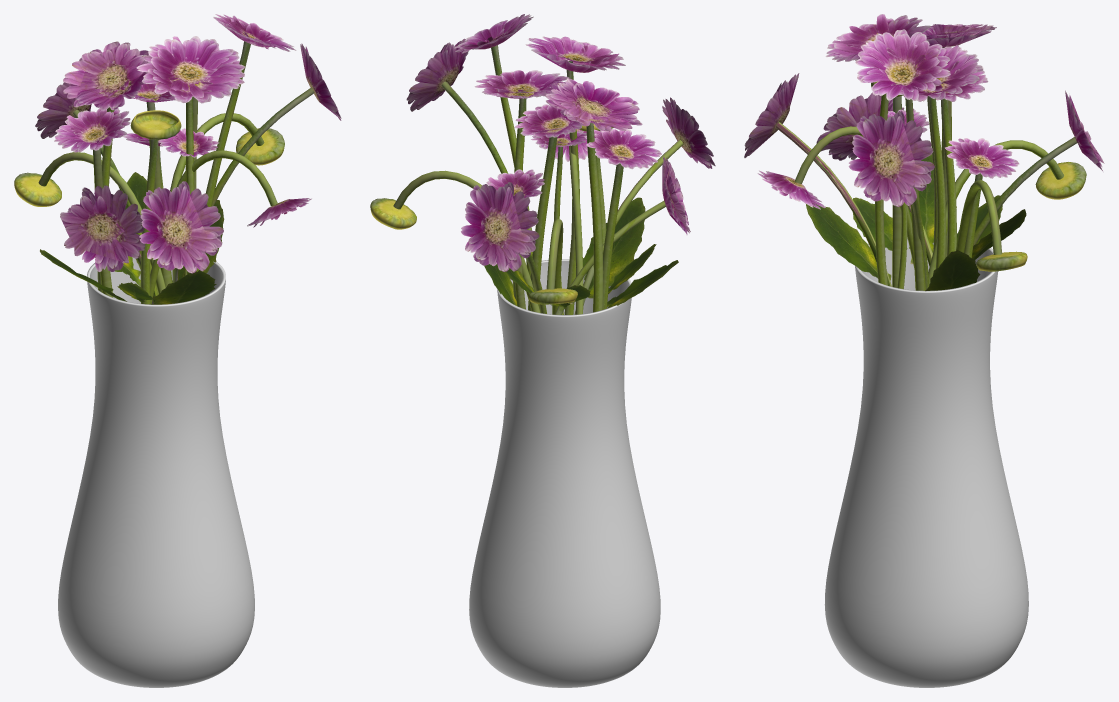
Rendered from flower1.fbx.
The picture shows the model from 3 angles, left to right: view 1: azimuth 30°, elevation 25°; view 2: azimuth 150°, elevation 25°; view 3: azimuth 270°, elevation 25°; orthographic projection. The views are drawn at different scales.
Parts seen in each view (by area): view 1: Cylinder.002, Plane.005, Plane.020, Plane.019, Plane.032, Plane.008, Plane.031, Plane.007, Plane.006, Plane.025, Plane.027, Plane.029 (+17 smaller); view 2: Cylinder.002, Plane.027, Plane.028, Plane.016, Plane.007, Plane.029, BezierCurve.003, Plane.019, Plane.005, Plane.025, Plane.008, BezierCurve.014 (+24 smaller); view 3: Cylinder.002, Plane.001, Plane.016, Plane.017, Plane.029, Plane.031, Plane.004, Plane.019, Plane.002, BezierCurve.005, Plane.018, Cylinder.004 (+23 smaller).
Part boxes in pixels (x1=…): Cylinder.002: x1=58, y1=257, x2=254, y2=687; Plane.005: x1=136, y1=36, x2=244, y2=103; Plane.020: x1=149, y1=186, x2=215, y2=272; Plane.019: x1=139, y1=181, x2=223, y2=273; Plane.032: x1=60, y1=196, x2=128, y2=263; Plane.008: x1=76, y1=43, x2=144, y2=100; Plane.031: x1=67, y1=185, x2=145, y2=271; Plane.007: x1=63, y1=41, x2=150, y2=110; Plane.006: x1=151, y1=46, x2=239, y2=97; Plane.025: x1=54, y1=107, x2=130, y2=152; Plane.027: x1=35, y1=70, x2=93, y2=138; Plane.029: x1=149, y1=270, x2=216, y2=304; Cylinder.002: x1=469, y1=259, x2=660, y2=687; Plane.027: x1=461, y1=182, x2=539, y2=271; Plane.028: x1=468, y1=186, x2=530, y2=270; Plane.016: x1=406, y1=38, x2=468, y2=111; Plane.007: x1=545, y1=78, x2=642, y2=131; Plane.029: x1=570, y1=197, x2=645, y2=304; BezierCurve.003: x1=586, y1=122, x2=603, y2=312; Plane.019: x1=662, y1=97, x2=715, y2=168; Plane.005: x1=525, y1=36, x2=625, y2=72; Plane.025: x1=584, y1=128, x2=661, y2=169; Plane.008: x1=549, y1=83, x2=635, y2=122; BezierCurve.014: x1=528, y1=136, x2=557, y2=310; Cylinder.002: x1=824, y1=237, x2=1028, y2=687; Plane.001: x1=855, y1=29, x2=950, y2=100; Plane.016: x1=848, y1=111, x2=934, y2=206; Plane.017: x1=857, y1=116, x2=925, y2=205; Plane.029: x1=806, y1=203, x2=891, y2=280; Plane.031: x1=816, y1=92, x2=904, y2=160; Plane.004: x1=863, y1=34, x2=937, y2=91; Plane.019: x1=744, y1=73, x2=799, y2=157; Plane.002: x1=945, y1=138, x2=1019, y2=178; BezierCurve.005: x1=929, y1=96, x2=945, y2=268; Plane.018: x1=925, y1=250, x2=980, y2=291; Cylinder.004: x1=1035, y1=162, x2=1086, y2=199.
Bounding box in the file's own units: 18.24 × 39.02 × 19.37.
Materials: 2 (1 with a texture image).
